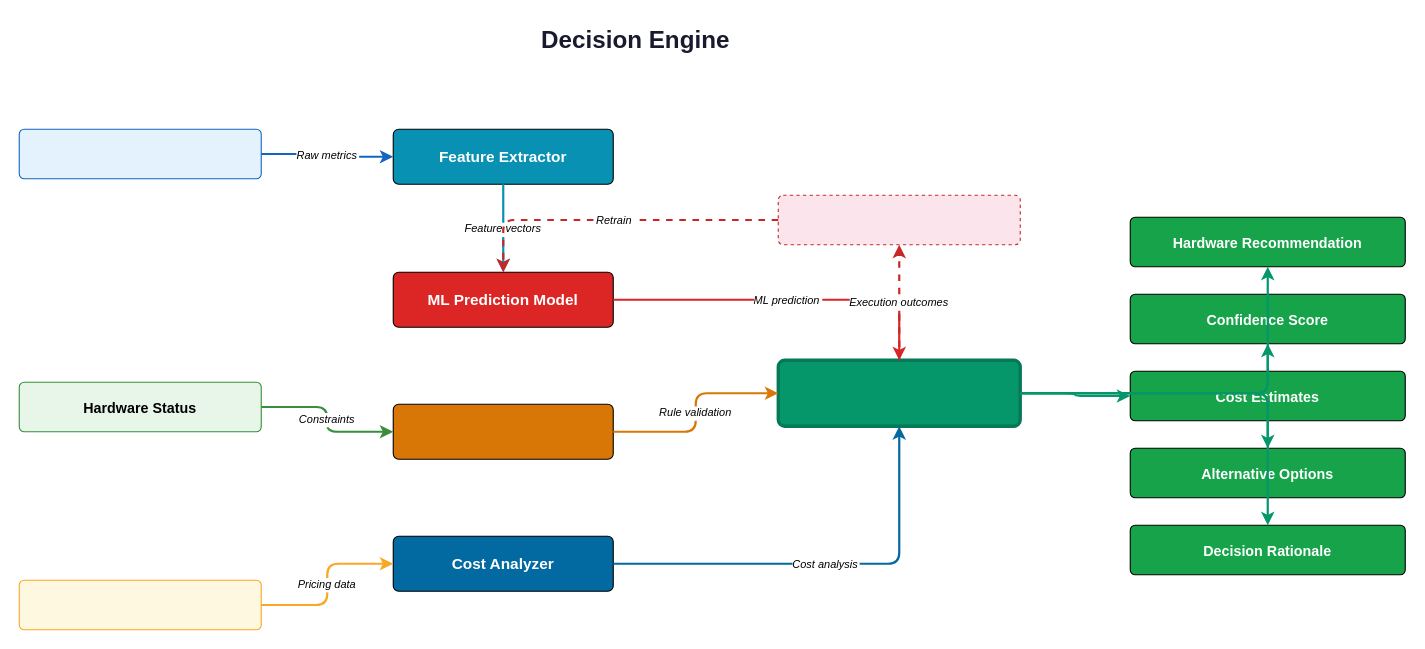
This 1425x649 diagram has some shape labels left out. Each missing label, with the centre of its shape:
"Adaptive Learning Loop" goes at (898,219).
"Cloud Provider Pricing" goes at (139,604).
"Code Analysis Metrics" goes at (139,153).
"Decision Merger" goes at (898,392).
"Rule-Based Validator" goes at (502,431).
